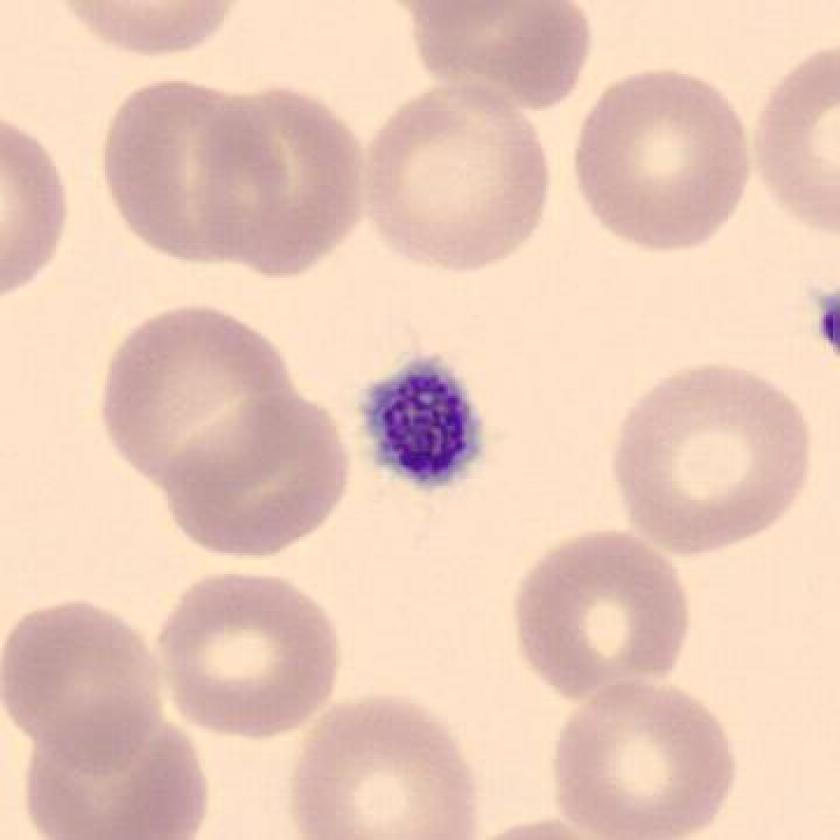platelets: (349, 346, 500, 501)
